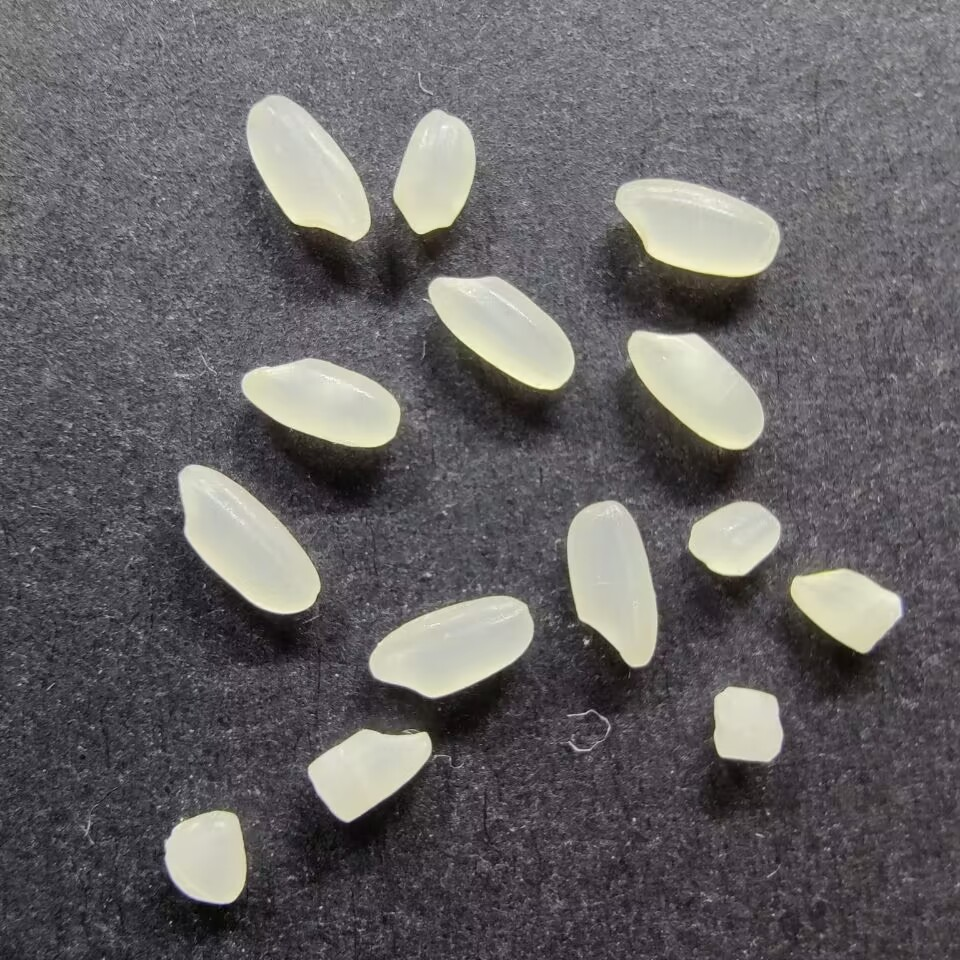broken: (305, 725, 434, 824), (390, 108, 475, 238), (788, 567, 906, 657), (163, 809, 247, 906), (684, 499, 782, 578), (711, 682, 788, 763)
rice: (176, 463, 321, 615), (244, 93, 375, 242), (368, 593, 535, 699), (426, 275, 576, 391), (613, 177, 781, 279), (627, 325, 765, 449), (564, 498, 659, 668), (239, 356, 400, 448)
